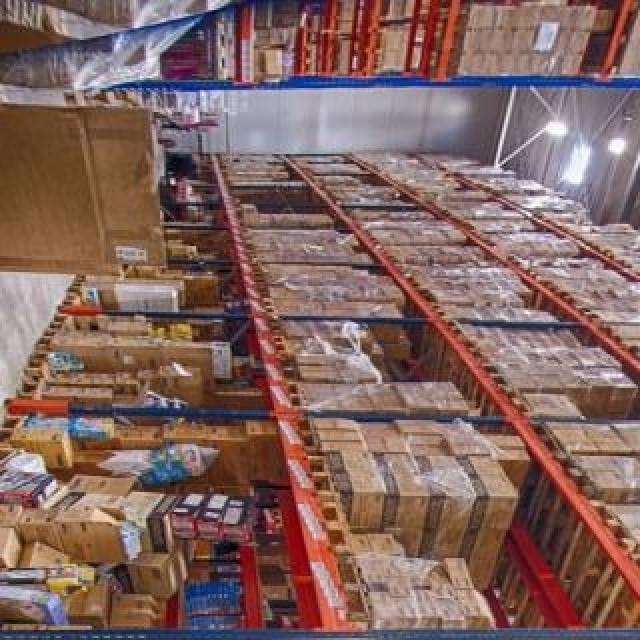fluorescent tube: (546, 138, 598, 189)
